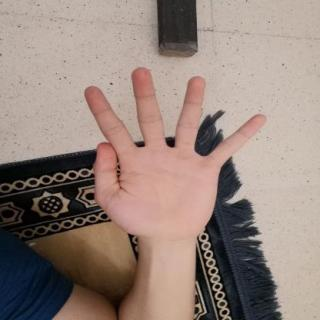SHEEN: (65, 62, 275, 248)
